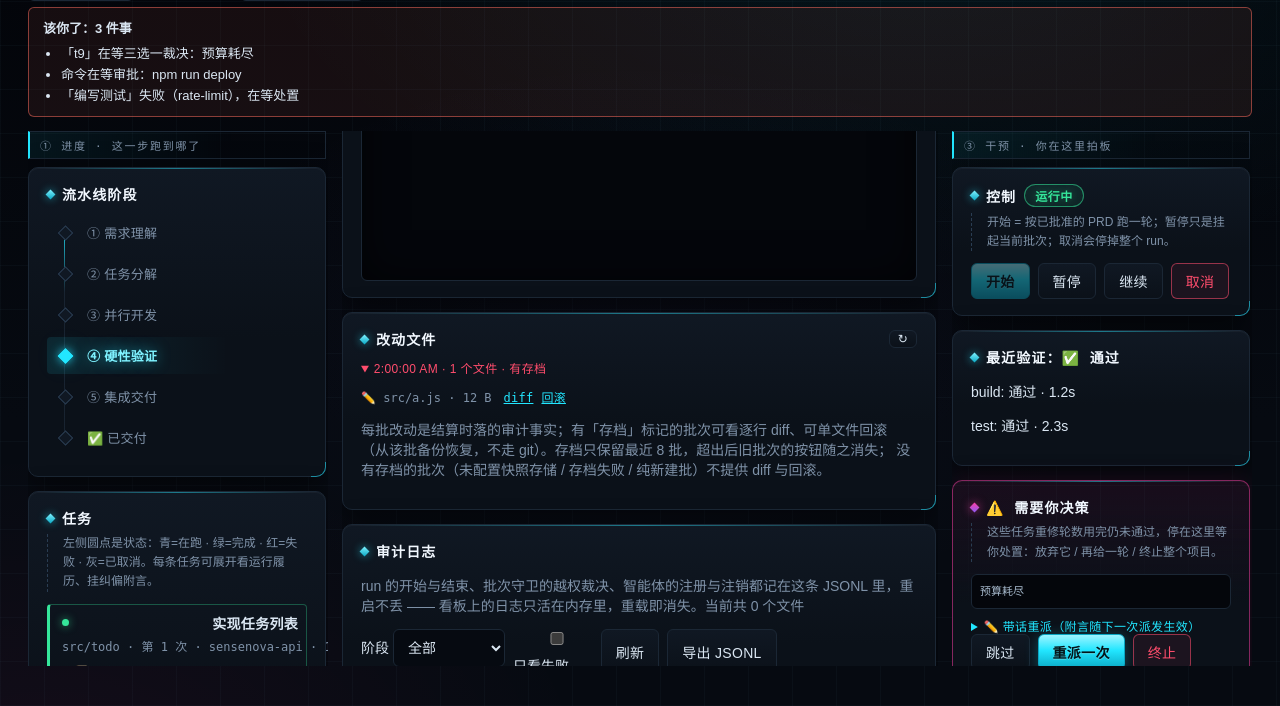
Test: BoardPage › 改动文件面板（changes:list + diff / 回滚） › 点 diff：桥收到 (batchId, path)，逐行 diff 上屏（增删带 +/- 号不只靠颜色）
(page scrolled)
Step 1. Click the button titled "看这一版的逐行 diff（存档旧内容 × 盘上现状）" → (519, 398), box top-left (500, 391), bottom-right (538, 405)
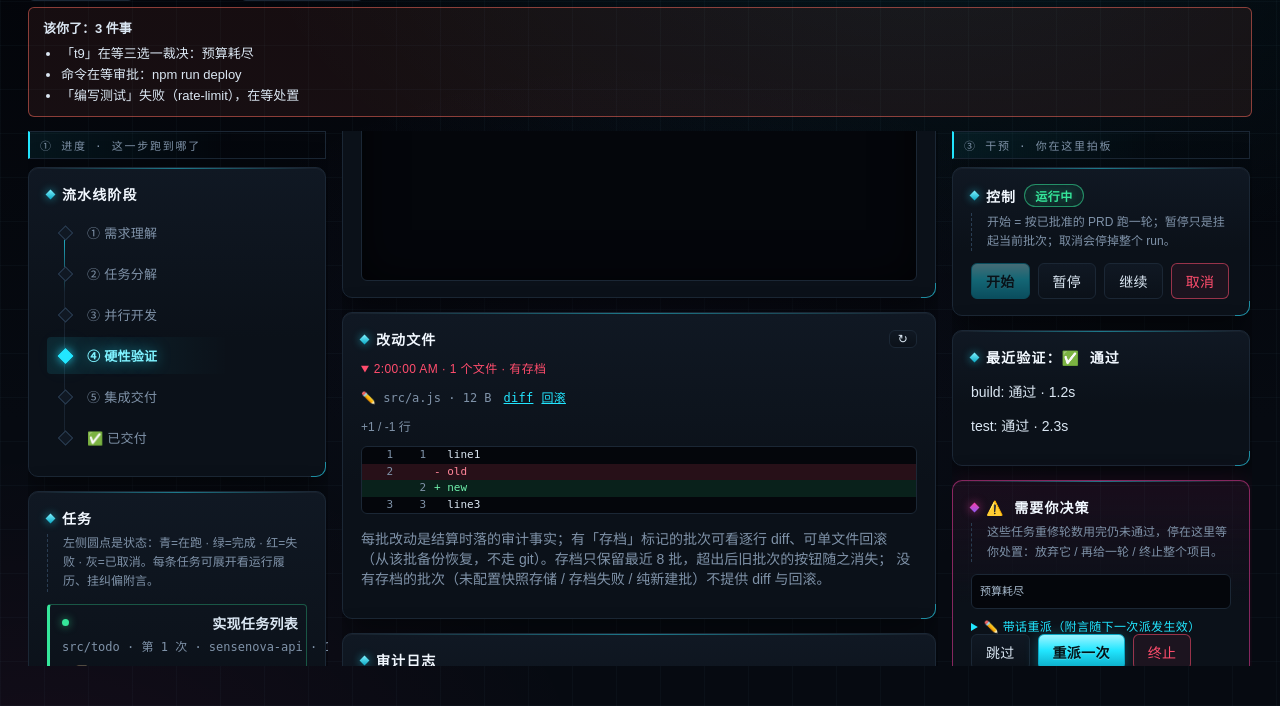
Expected: the text "old" is shown, top-left (447, 464), bottom-right (467, 478)
Expected: the text "new" is shown, top-left (447, 481), bottom-right (467, 494)
Expected: the text "+1 / -1 行" is shown, top-left (361, 420), bottom-right (411, 434)
